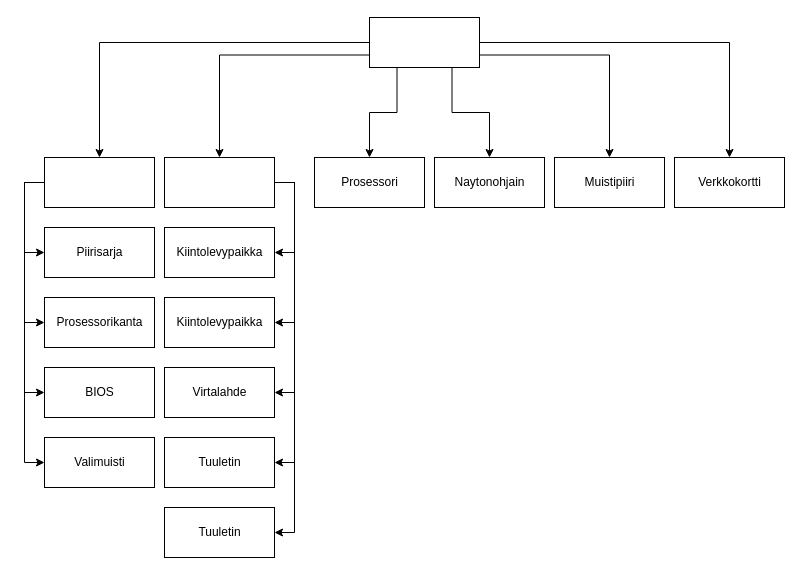
Some shapes in this 802 by 575 pixel diagram are drawn without their labels. The centre of each missing label's shape, as x and y in pixels:
"Emolevy" belongs at [99,182].
"Kotelo" belongs at [219,182].
"Tietokone" belongs at [424,42].
